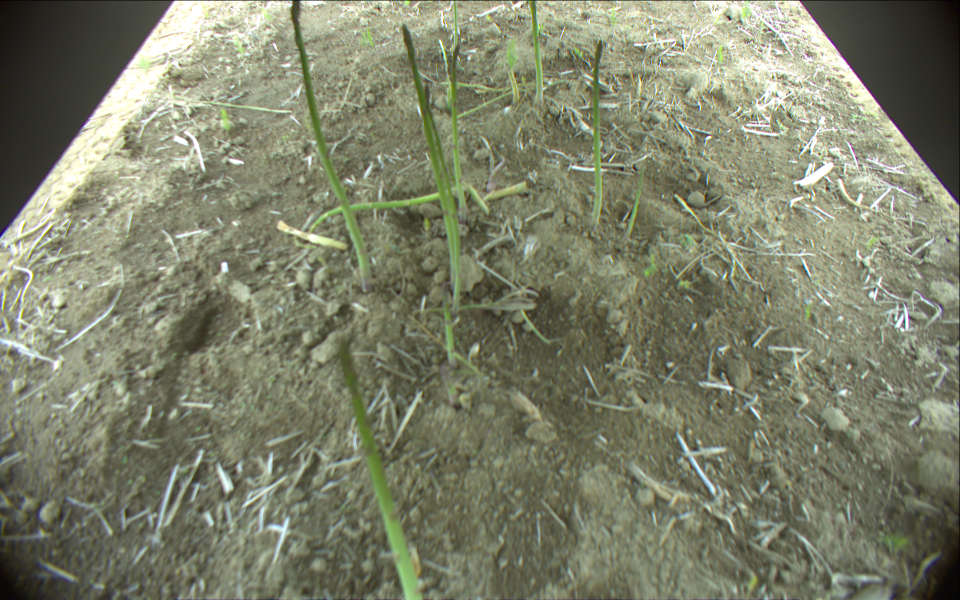aspa: (288, 1, 372, 296), (336, 337, 421, 600), (401, 23, 458, 287), (423, 84, 464, 313), (310, 183, 490, 234), (458, 77, 569, 118), (448, 45, 469, 222), (150, 91, 292, 114), (590, 40, 605, 229), (621, 155, 647, 245), (527, 1, 544, 103), (441, 291, 458, 369), (505, 66, 521, 102), (451, 1, 459, 48)
